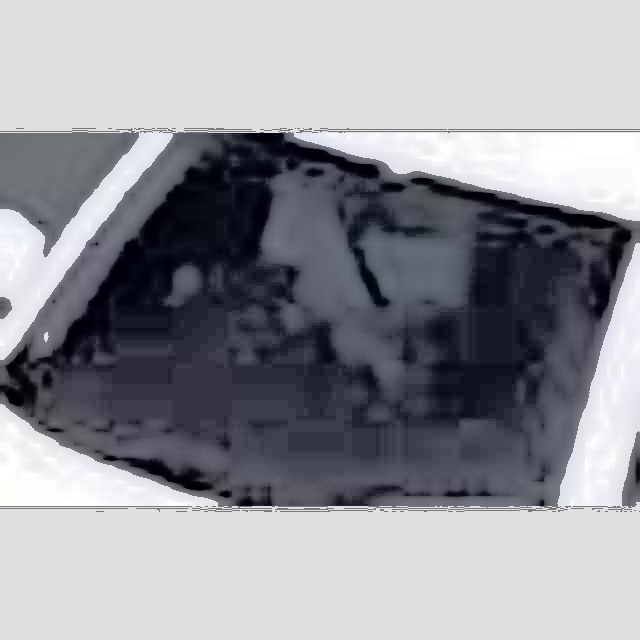pakai: (244, 162, 460, 413)
